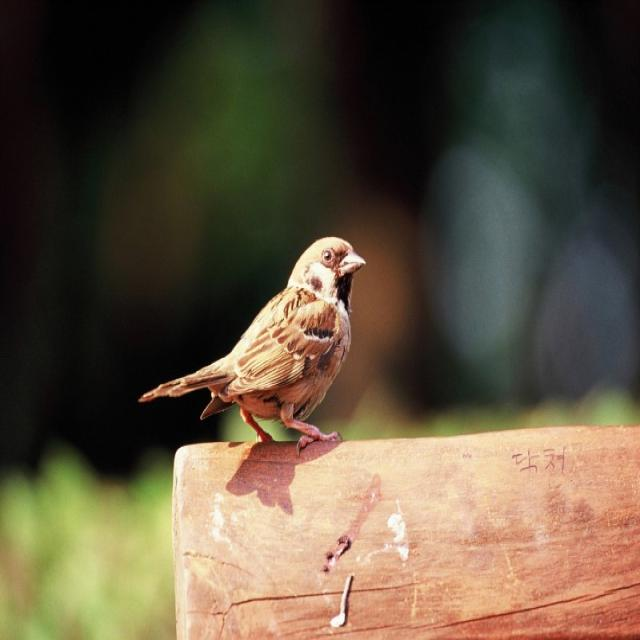bird: (153, 235, 380, 461)
